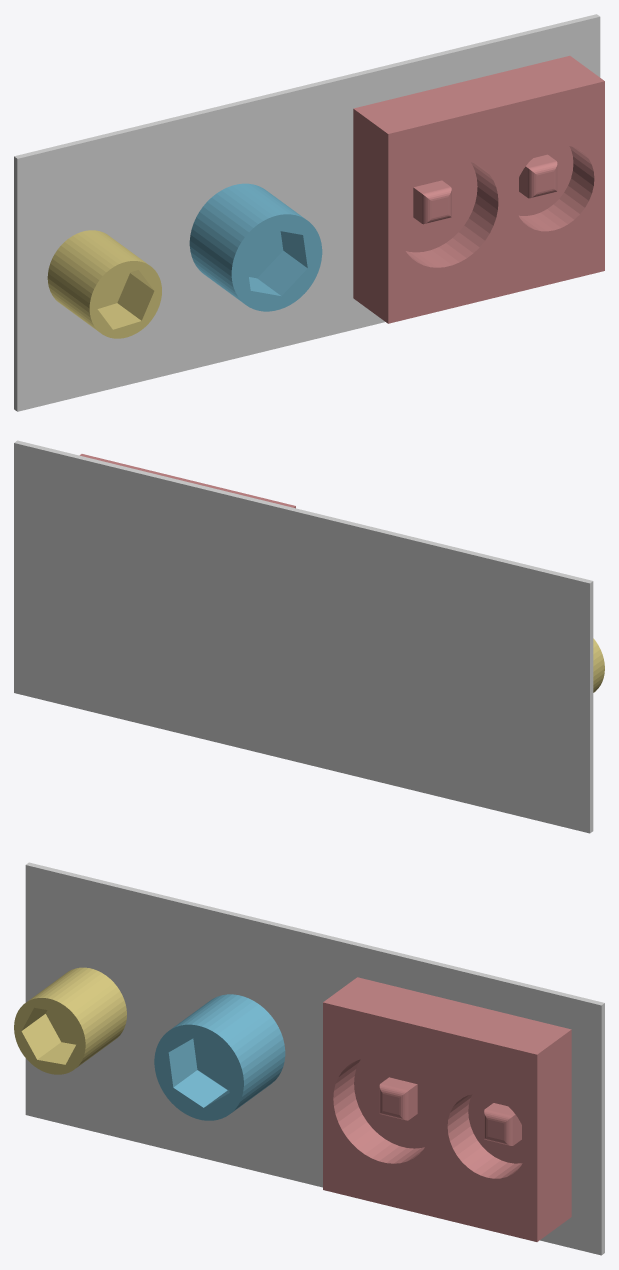
File: pickup_layout.glb
3 views of the same model, one above another, from view 1: azimuth 30°, elevation 25°; view 2: azimuth 150°, elevation 25°; view 3: azimuth 330°, elevation 25° (orthographic).
Visible parts, largest first — view 1: world, 0.obj, 2.obj, 1.obj; view 2: world, 0.obj; view 3: world, 0.obj, 2.obj, 1.obj.
Part boxes in pixels (box(x1,y1,x2,y2)): world: box(14, 14, 600, 411); 0.obj: box(353, 55, 604, 323); 2.obj: box(189, 183, 322, 311); 1.obj: box(47, 230, 161, 338); world: box(14, 440, 593, 833); 0.obj: box(79, 454, 295, 508); world: box(25, 862, 604, 1255); 0.obj: box(323, 977, 571, 1241); 2.obj: box(154, 994, 285, 1120); 1.obj: box(14, 967, 126, 1074).
Bounding box in the file's own units: 19.29 × 8 × 2.6.
